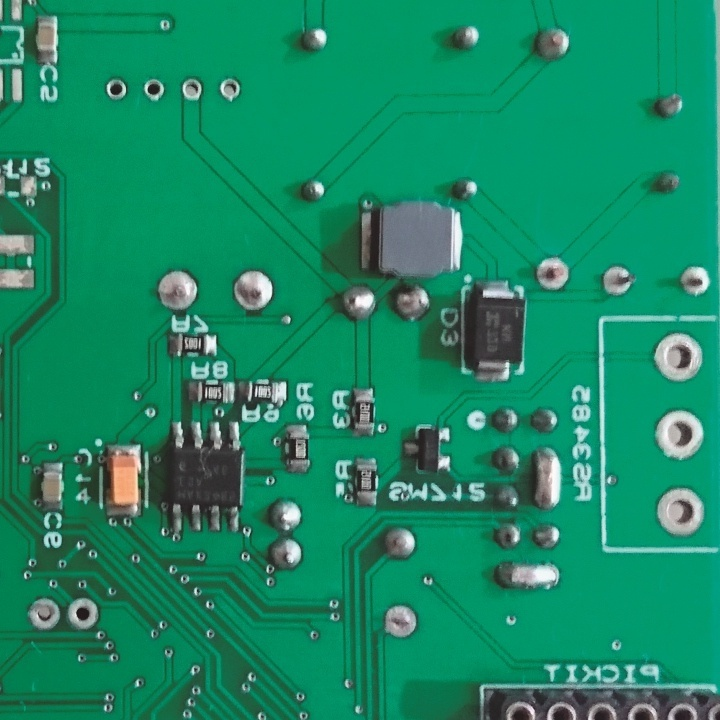F: (651, 326, 706, 383), (653, 406, 706, 463), (653, 482, 704, 538), (153, 266, 204, 310), (230, 266, 276, 314), (534, 255, 577, 292), (382, 599, 416, 640), (23, 597, 62, 631), (65, 595, 99, 633), (601, 263, 636, 297), (679, 266, 707, 297), (180, 77, 205, 103), (143, 78, 168, 104), (217, 77, 241, 103), (103, 77, 130, 100)
P: (529, 441, 563, 512), (496, 558, 565, 591)
